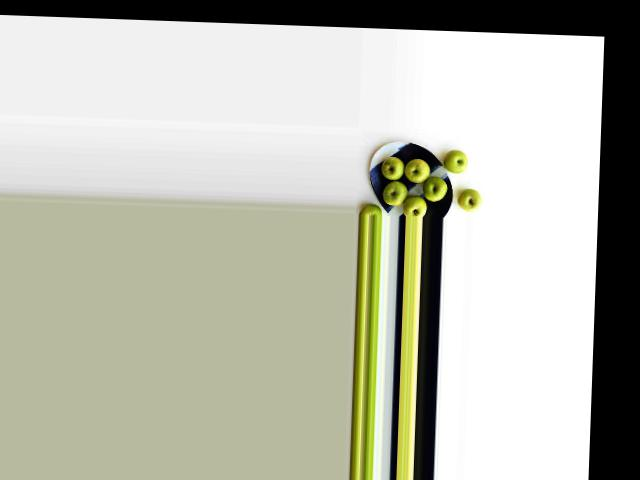apple: (381, 154, 406, 181)
